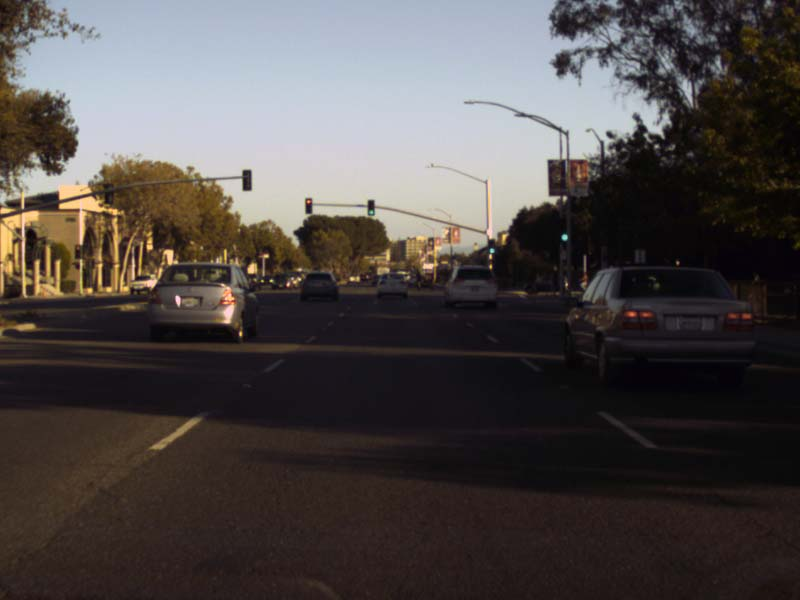Green: (560, 222, 566, 242), (367, 199, 374, 215), (487, 239, 494, 253)
Red: (305, 197, 312, 213)
